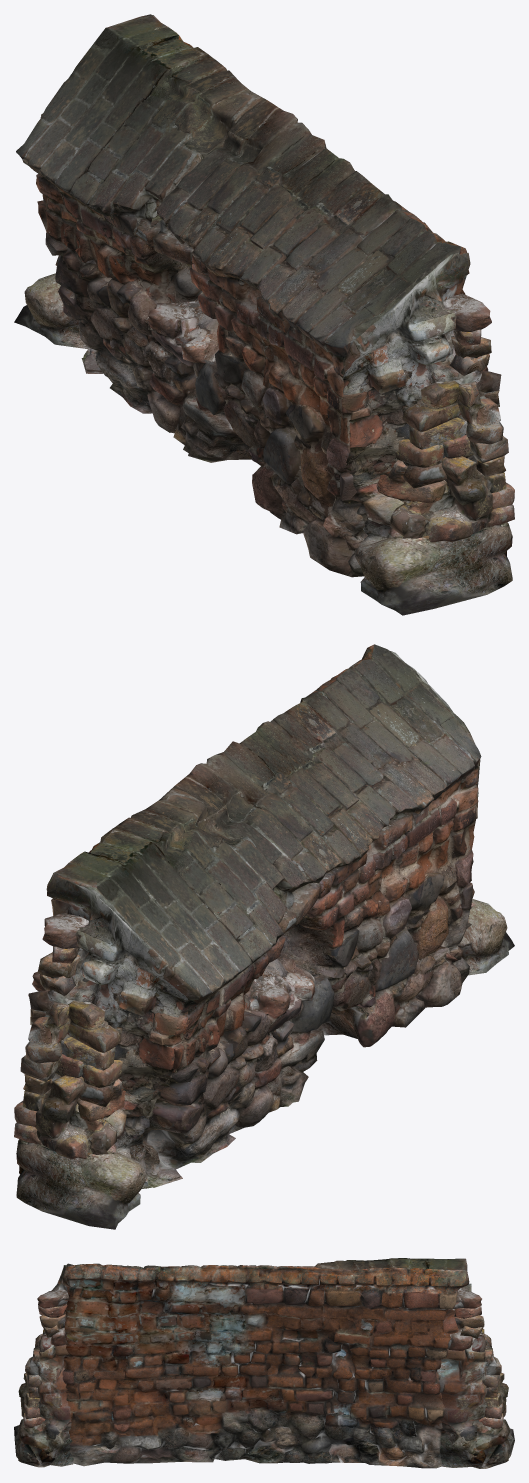
Rendered from sm_EntranceWalls_01_03.fbx.
3 views of the same model, one above another, from view 1: azimuth 30°, elevation 25°; view 2: azimuth 150°, elevation 25°; view 3: azimuth 270°, elevation 25° (orthographic). The views are drawn at different scales.
Visible parts, largest first — view 1: sm_EntranceWalls_01_03_LOD0; view 2: sm_EntranceWalls_01_03_LOD0; view 3: sm_EntranceWalls_01_03_LOD0.
Part boxes in pixels (x1=…): sm_EntranceWalls_01_03_LOD0: x1=14, y1=14, x2=514, y2=615; sm_EntranceWalls_01_03_LOD0: x1=14, y1=644, x2=514, y2=1229; sm_EntranceWalls_01_03_LOD0: x1=14, y1=1258, x2=514, y2=1468.
Bounding box in the file's own units: 85.34 × 342 × 149.
